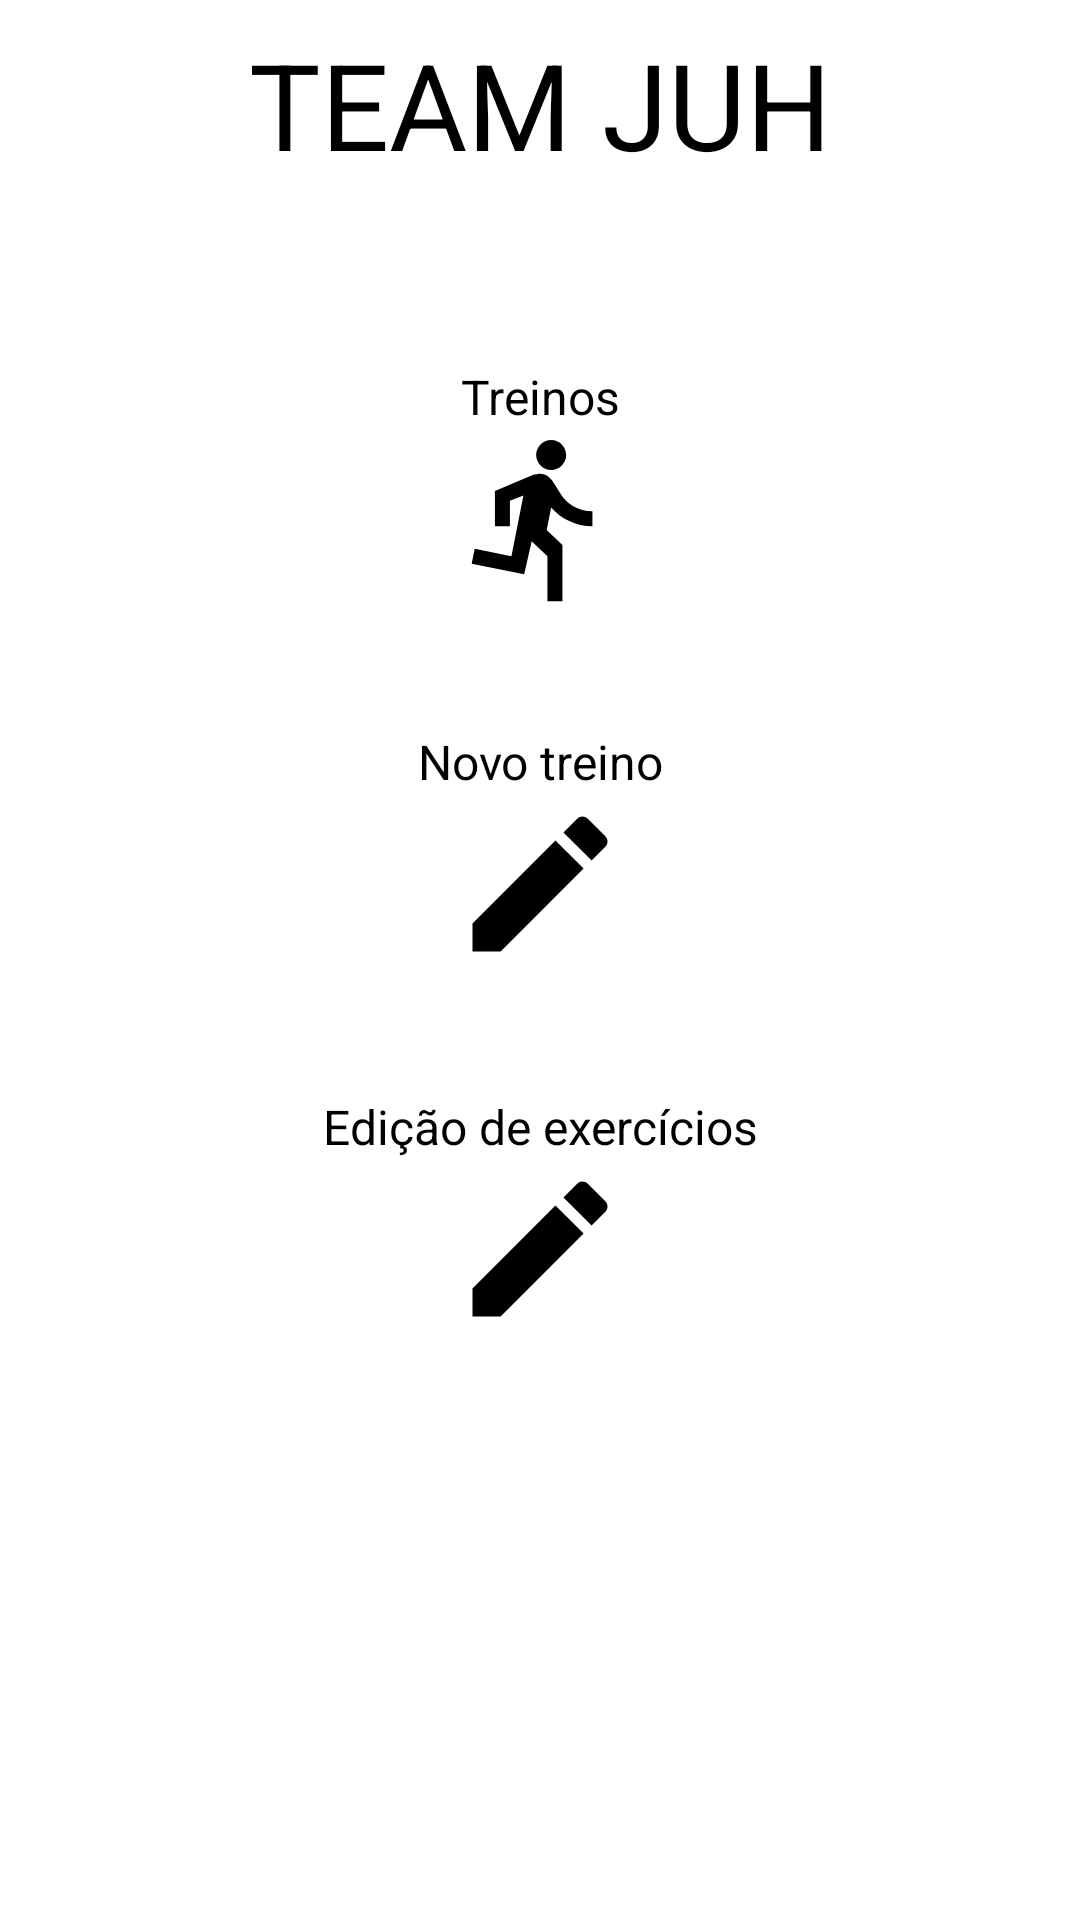

Named icons in this screenshot (1080px×1920px) and their bounding boxes, {"left": x1, "top": y1, "right": x2, "bottom": y2}:
edit: {"left": 472, "top": 816, "right": 608, "bottom": 952}, {"left": 472, "top": 1181, "right": 608, "bottom": 1317}
run: {"left": 471, "top": 440, "right": 593, "bottom": 602}
